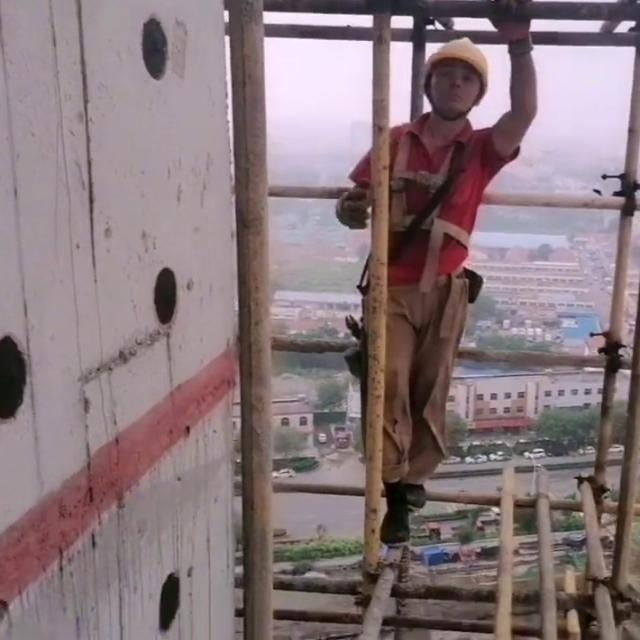Arnes_seguridad: (379, 117, 477, 246)
